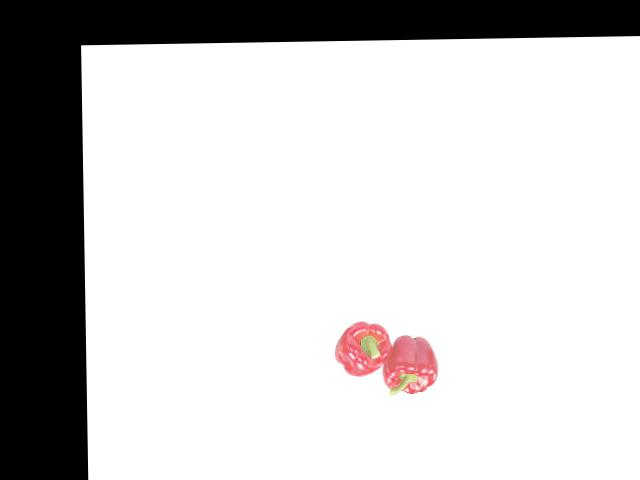bell_pepper: (380, 330, 440, 398)
